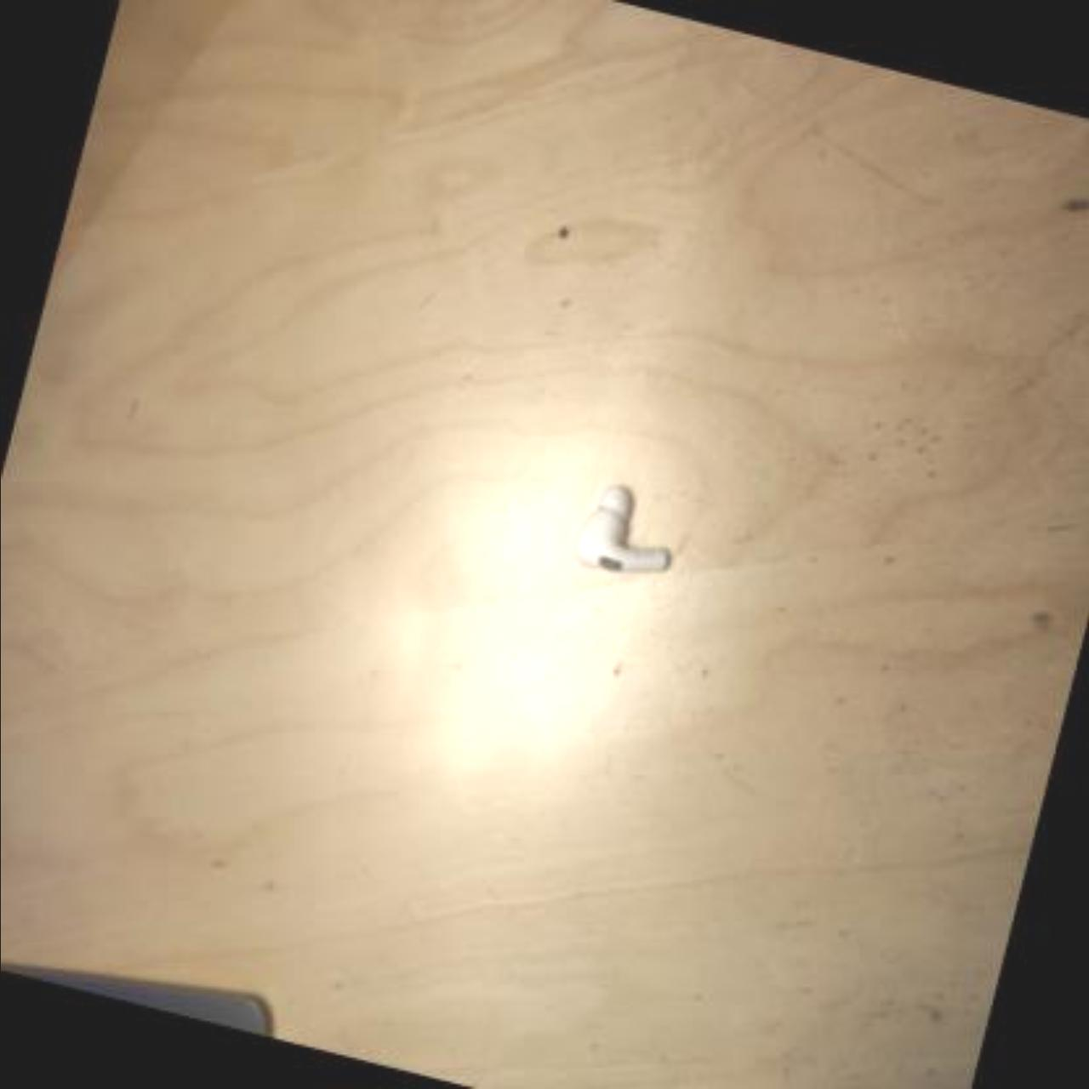Airpods_Units: (568, 479, 688, 591)
